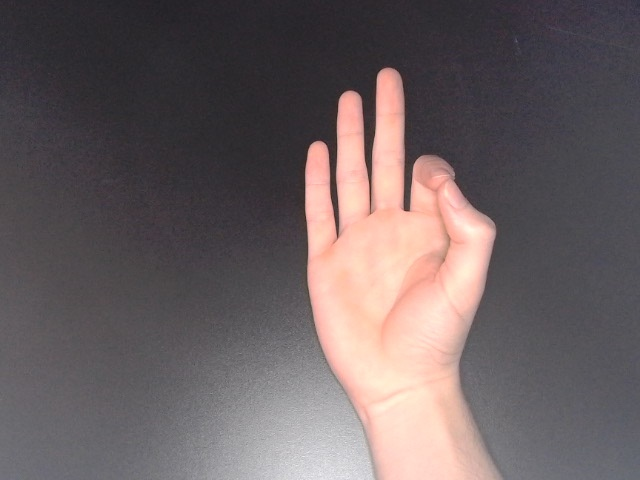f: (300, 64, 499, 424)
